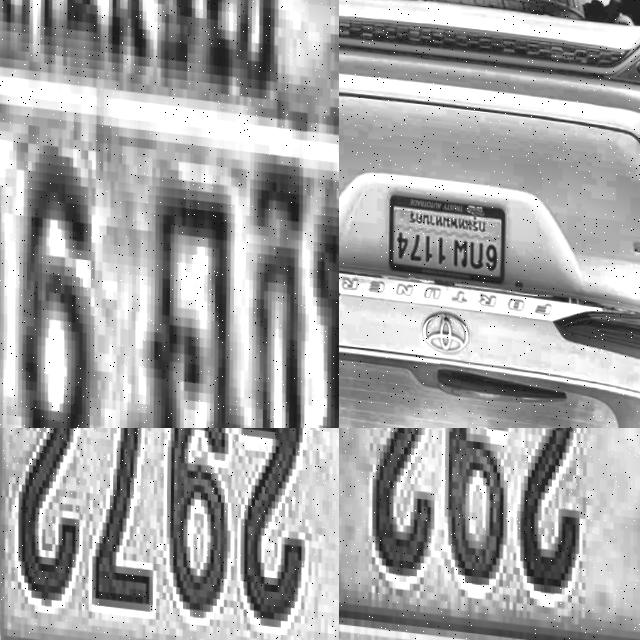license-plate: (0, 0, 339, 428), (0, 428, 339, 640), (339, 428, 640, 640), (386, 186, 506, 281)
